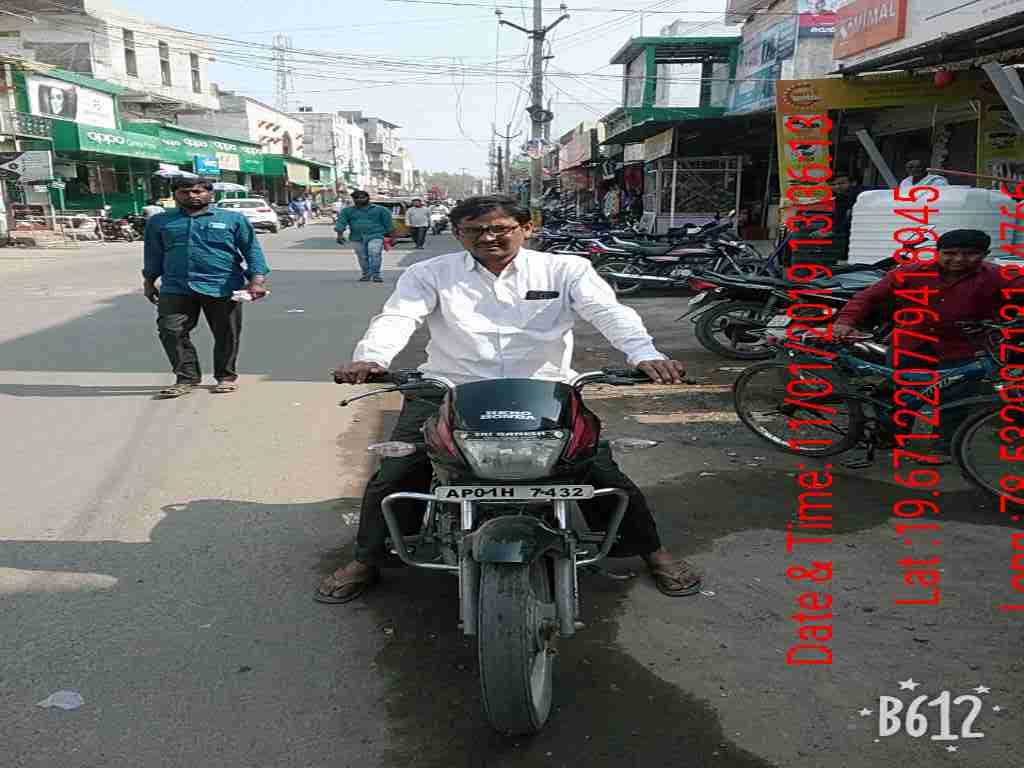plate: (431, 479, 601, 505)
